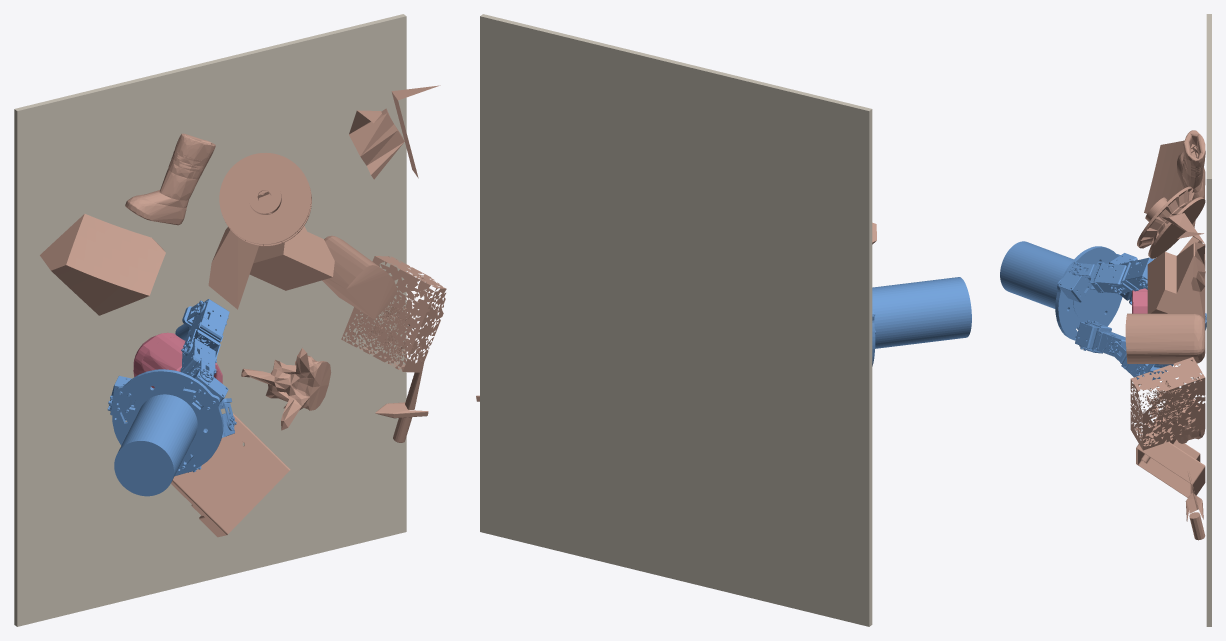
3 views of the same model, side by side, from view 1: azimuth 30°, elevation 25°; view 2: azimuth 150°, elevation 25°; view 3: azimuth 270°, elevation 25° (orthographic). The views are drawn at different scales.
Visible parts, largest first — view 1: environment, hand, obstacle_007, obstacle_001, obstacle_003, obstacle_012, obstacle_002, obstacle_010, obstacle_000, obstacle_005, obstacle_006, obstacle_004 (+3 smaller); view 2: environment, hand; view 3: hand, obstacle_012, obstacle_000, environment, obstacle_010, obstacle_003, obstacle_001, obstacle_007, obstacle_002, obstacle_004, obstacle_008, obstacle_005 (+1 smaller).
Boxes of the visible parts, x1=… form: environment: x1=14, y1=14, x2=406, y2=626; hand: x1=107, y1=299, x2=236, y2=496; obstacle_007: x1=40, y1=214, x2=165, y2=315; obstacle_001: x1=219, y1=153, x2=311, y2=246; obstacle_003: x1=171, y1=413, x2=290, y2=537; obstacle_012: x1=341, y1=256, x2=446, y2=372; obstacle_002: x1=125, y1=133, x2=215, y2=225; obstacle_010: x1=249, y1=226, x2=334, y2=290; obstacle_000: x1=322, y1=235, x2=397, y2=319; obstacle_005: x1=241, y1=348, x2=331, y2=430; obstacle_006: x1=208, y1=227, x2=258, y2=309; obstacle_004: x1=349, y1=108, x2=404, y2=179; environment: x1=480, y1=14, x2=872, y2=626; hand: x1=872, y1=277, x2=971, y2=366; hand: x1=1000, y1=241, x2=1206, y2=380; obstacle_012: x1=1130, y1=357, x2=1205, y2=450; obstacle_000: x1=1125, y1=313, x2=1205, y2=364; environment: x1=1206, y1=14, x2=1211, y2=626; obstacle_010: x1=1147, y1=243, x2=1205, y2=323; obstacle_003: x1=1136, y1=405, x2=1205, y2=497; obstacle_001: x1=1137, y1=186, x2=1205, y2=258; obstacle_007: x1=1144, y1=140, x2=1195, y2=227; obstacle_002: x1=1177, y1=130, x2=1205, y2=199; obstacle_004: x1=1161, y1=213, x2=1205, y2=291; obstacle_008: x1=1185, y1=473, x2=1205, y2=540; obstacle_005: x1=1160, y1=370, x2=1204, y2=443.
Bounding box in the file's own units: 0.6152 × 0.7435 × 0.3188.
